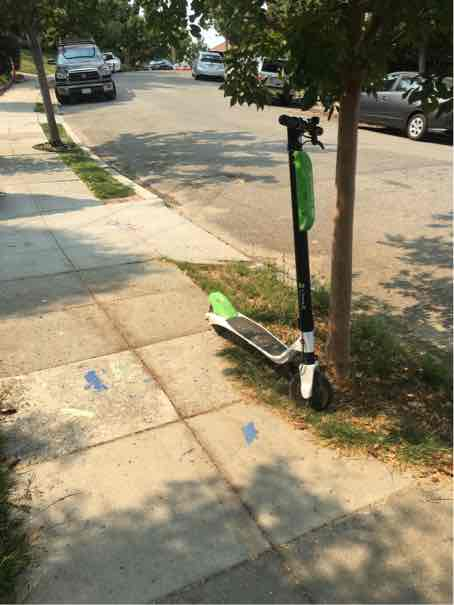scooter: (185, 97, 334, 428)
